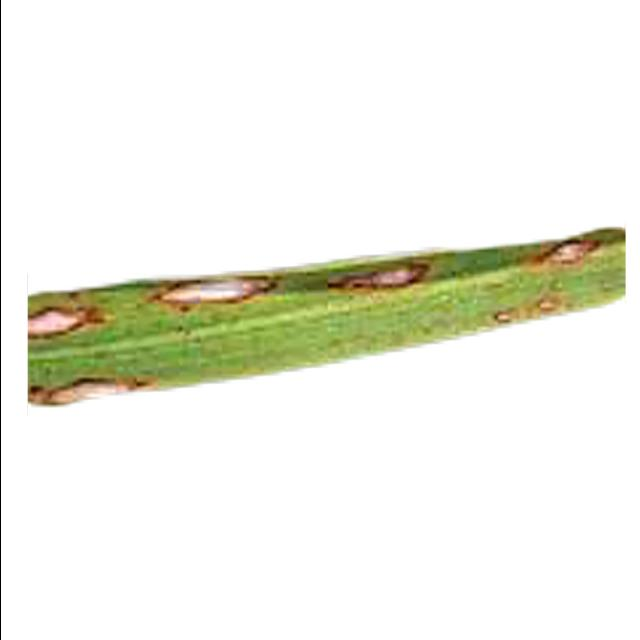Leaf blast: (9, 158, 640, 432)
